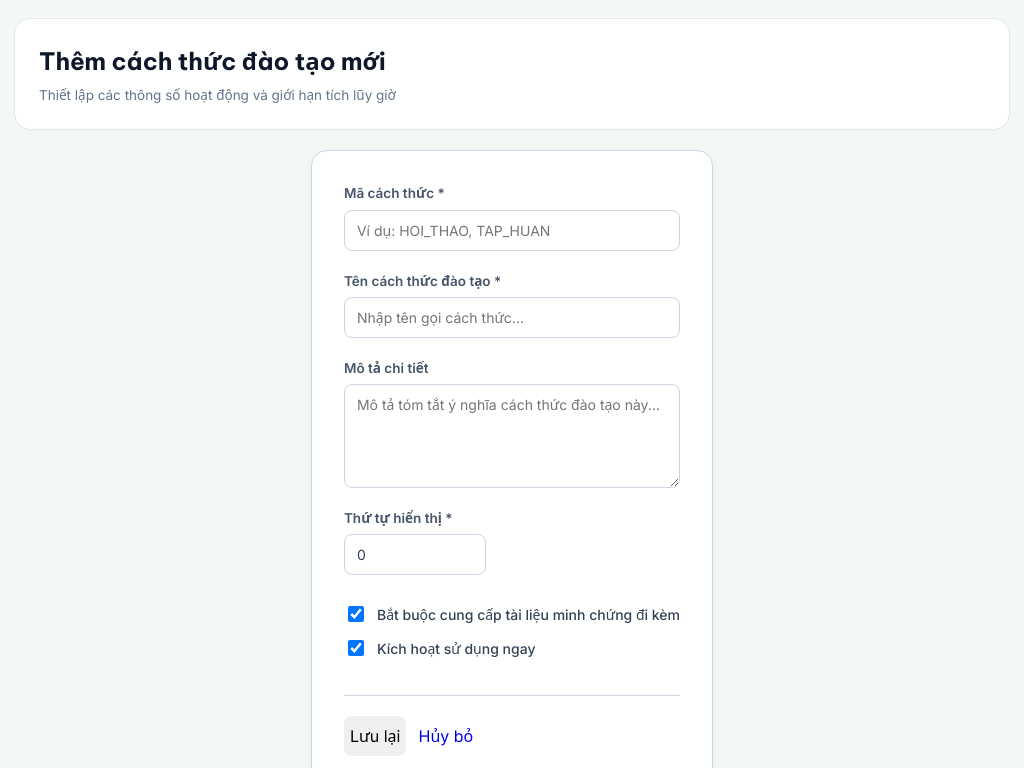
ActivityTypeFormPage - tạo mới › hiện lỗi khi tạo thất bại
In the field with placeholder "Ví dụ: HOI_THAO, TAP_HUAN": coordinates (512, 230) x1=344 y1=210 x2=680 y2=250, type "ABC"
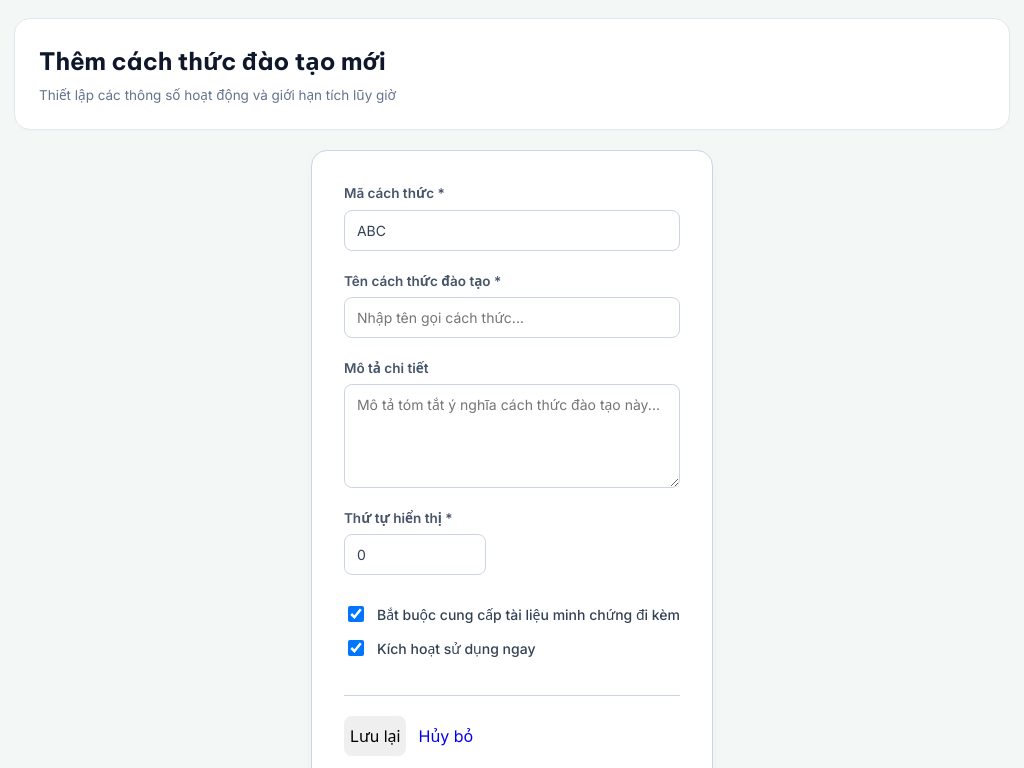
In the field with placeholder "Nhập tên gọi cách thức...": coordinates (512, 317) x1=344 y1=297 x2=680 y2=338, type "Trùng mã"
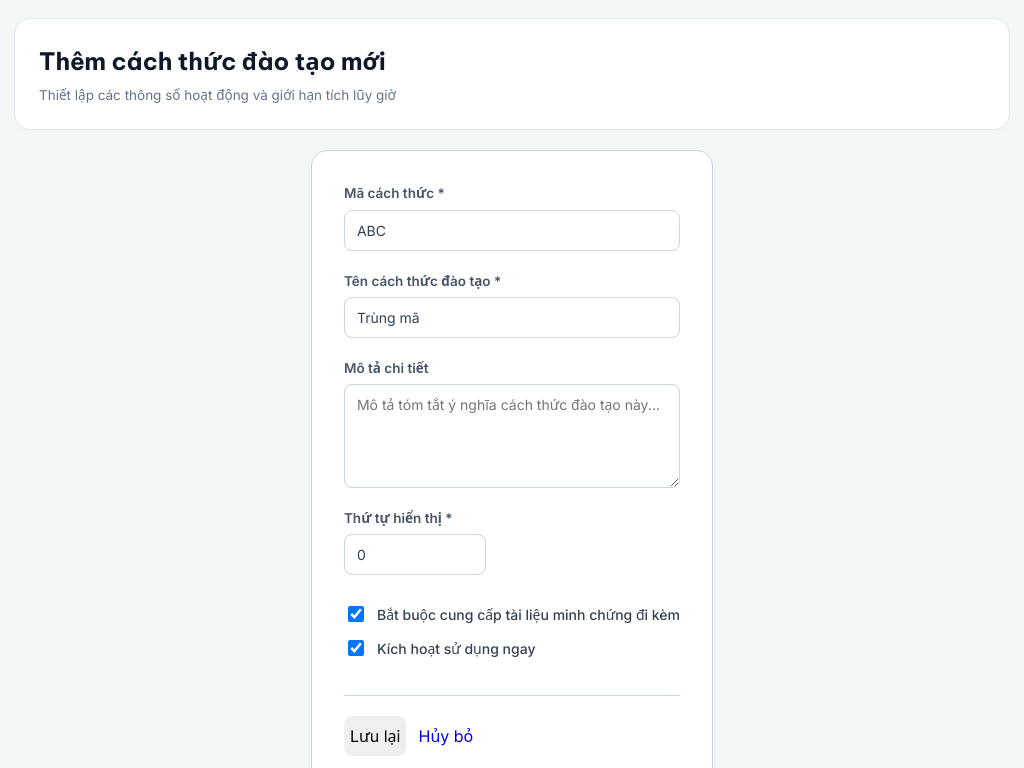
Submit the form with placeholder "Ví dụ: HOI_THAO, TAP_HUAN", box x1=344 y1=183 x2=680 y2=756
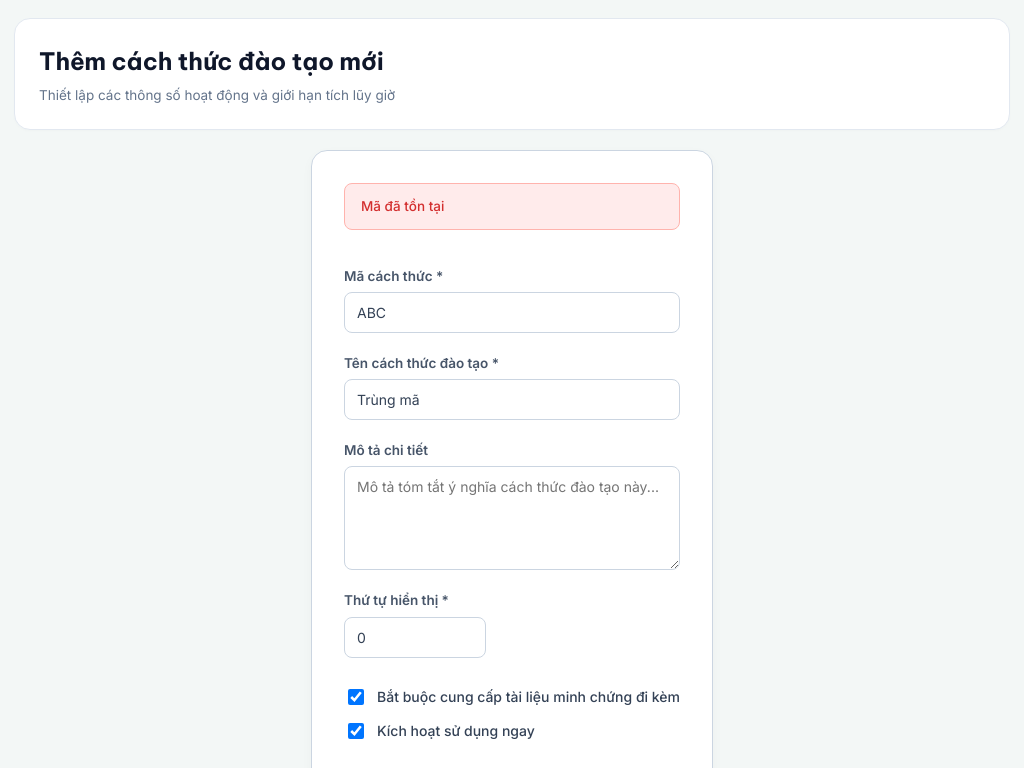
expect the text "Mã đã tồn tại" is shown: met, box x1=344 y1=183 x2=680 y2=230
